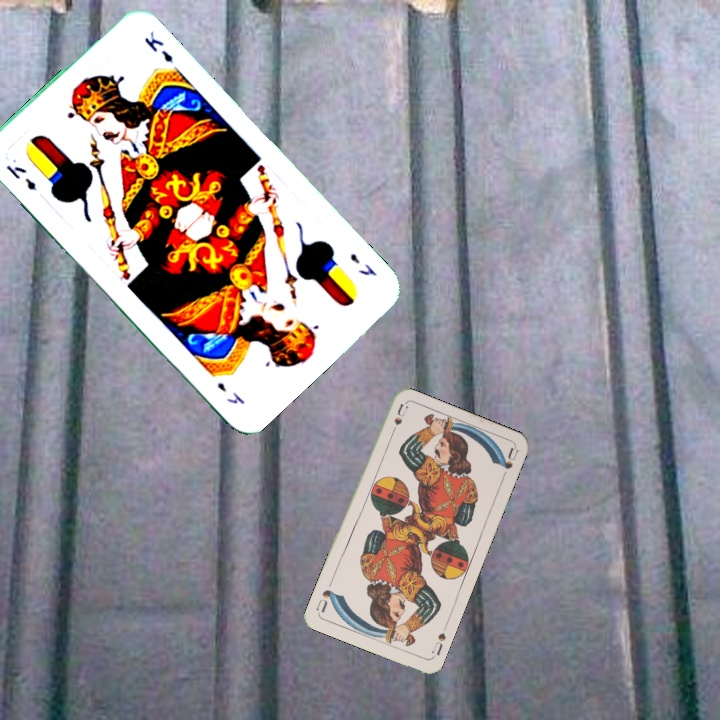EK: (2, 161, 39, 194), (345, 249, 379, 279)
SU: (386, 400, 411, 440), (427, 629, 448, 660)
